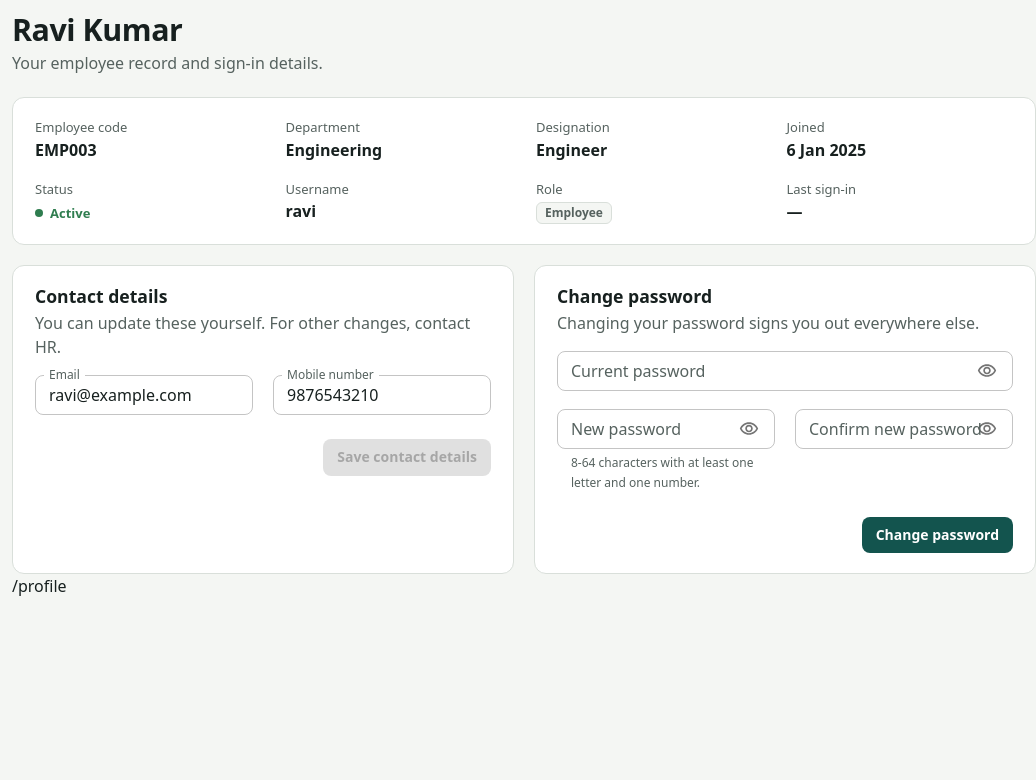
Test case: ProfilePage › saves contact details only when they changed
The width and height of the screenshot is (1036, 780).
Check: the button "Save contact details" is disabled, box [323,439,491,476]
Replace the text in the field labelled "Mobile number" with "9123456789" at (382, 395), box [273,375,491,415]
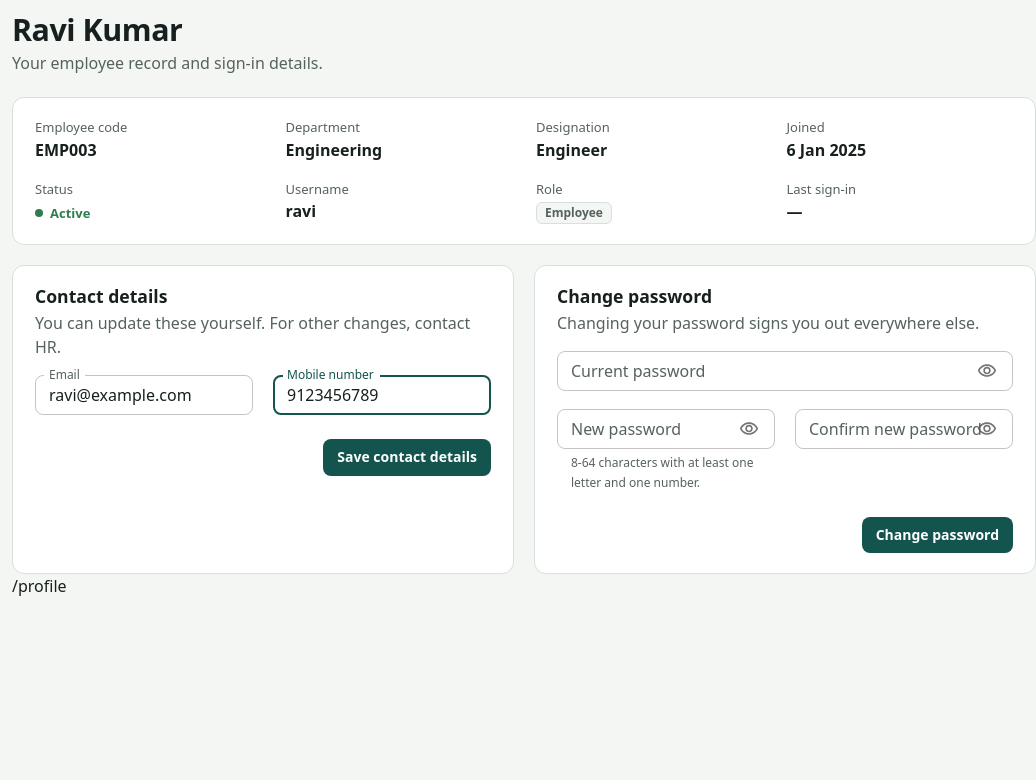
Click the button "Save contact details" at (407, 457), box [323,439,491,476]
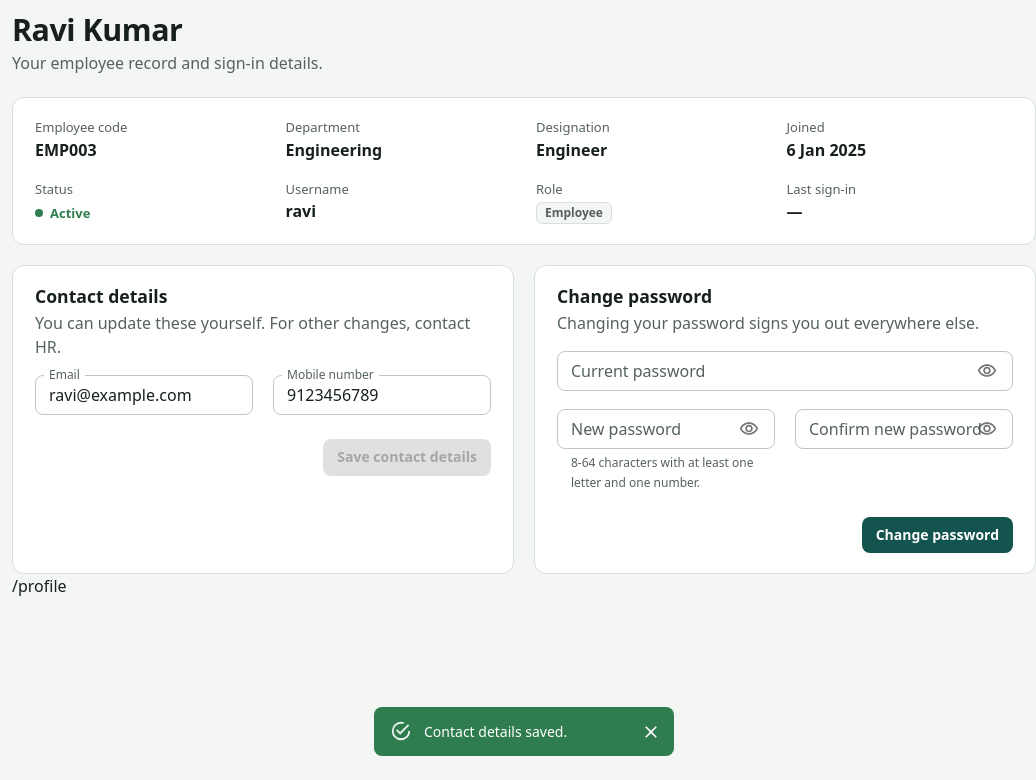
Check: the text "Contact details saved." is shown, box [424,722,567,741]
